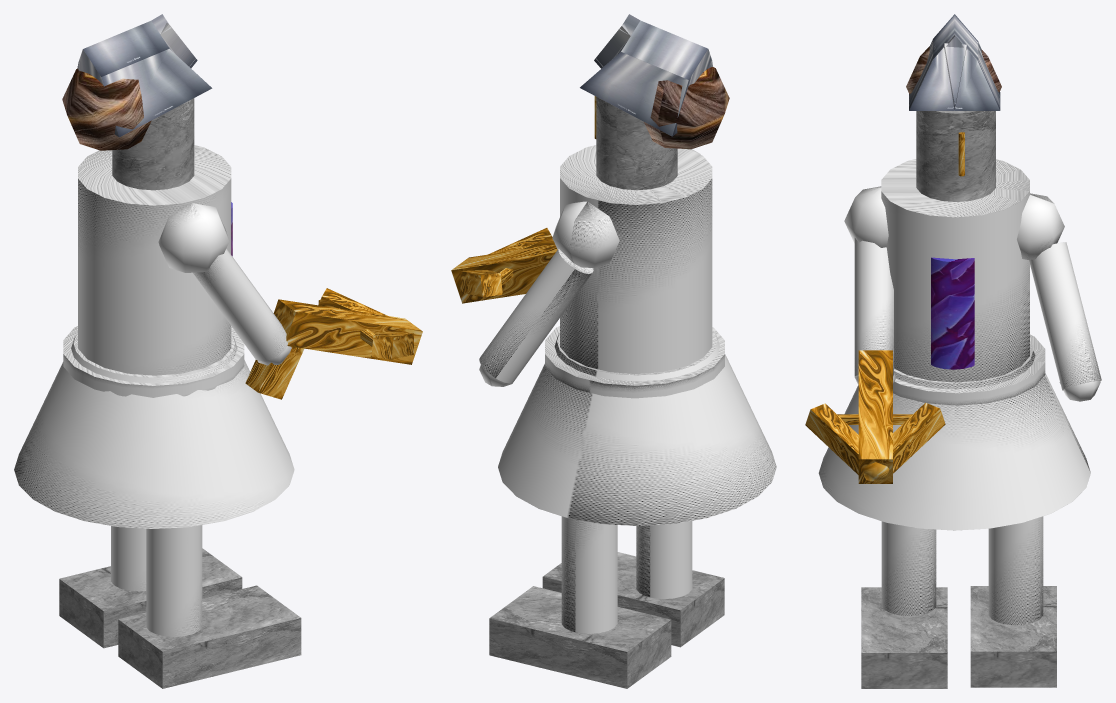
The model's file is BallesteroNivel3.fbx.
3 renders of one model, left to right at view 1: azimuth 30°, elevation 25°; view 2: azimuth 150°, elevation 25°; view 3: azimuth 270°, elevation 25°, orthographic. The views are drawn at different scales.
Visible parts, largest first — view 1: Cone003, Cylinder029, Box023, Box024, Cylinder030, Box017, Box019, Cylinder033, Sphere030, Cylinder035, Sphere031, Cylinder034 (+4 smaller); view 2: Cone003, Cylinder029, Box017, Box024, Cylinder031, Cylinder036, Cylinder033, Box023, Sphere030, Cylinder030, Cylinder034, Sphere033 (+3 smaller); view 3: Cone003, Cylinder029, Box023, Box017, Cylinder033, Cylinder036, Box024, Cylinder031, Cylinder030, Cylinder032, Box019, Cylinder035 (+7 smaller).
Boxes of the visible parts, bbox=[...] form: Cone003: bbox=[14, 333, 294, 528]; Cylinder029: bbox=[78, 145, 231, 375]; Box023: bbox=[118, 585, 301, 688]; Box024: bbox=[77, 14, 212, 137]; Cylinder030: bbox=[146, 525, 202, 636]; Box017: bbox=[59, 548, 242, 648]; Box019: bbox=[273, 299, 422, 364]; Cylinder033: bbox=[112, 98, 194, 190]; Sphere030: bbox=[62, 68, 151, 150]; Cylinder035: bbox=[193, 248, 288, 361]; Sphere031: bbox=[158, 203, 229, 272]; Cylinder034: bbox=[63, 326, 244, 397]; Cone003: bbox=[498, 330, 776, 525]; Cylinder029: bbox=[560, 145, 712, 373]; Box017: bbox=[489, 586, 671, 688]; Box024: bbox=[580, 14, 712, 136]; Cylinder031: bbox=[561, 516, 617, 633]; Cylinder036: bbox=[479, 249, 593, 383]; Cylinder033: bbox=[596, 97, 677, 190]; Box023: bbox=[542, 552, 724, 647]; Sphere030: bbox=[644, 67, 729, 149]; Cylinder030: bbox=[636, 521, 692, 598]; Cylinder034: bbox=[545, 326, 724, 398]; Sphere033: bbox=[552, 201, 619, 267]; Cone003: bbox=[818, 341, 1090, 530]; Cylinder029: bbox=[881, 159, 1029, 382]; Box023: bbox=[861, 587, 947, 688]; Box017: bbox=[970, 586, 1056, 687]; Cylinder033: bbox=[916, 111, 995, 201]; Cylinder036: bbox=[1029, 242, 1101, 390]; Box024: bbox=[909, 14, 1000, 110]; Cylinder031: bbox=[988, 516, 1043, 625]; Cylinder030: bbox=[881, 521, 936, 615]; Cylinder032: bbox=[931, 257, 974, 369]; Box019: bbox=[858, 350, 892, 483]; Cylinder035: bbox=[854, 238, 893, 377].
Size of the model in its own units: 0.2801 by 0.4901 by 0.2161.
6 materials, 6 textured.
